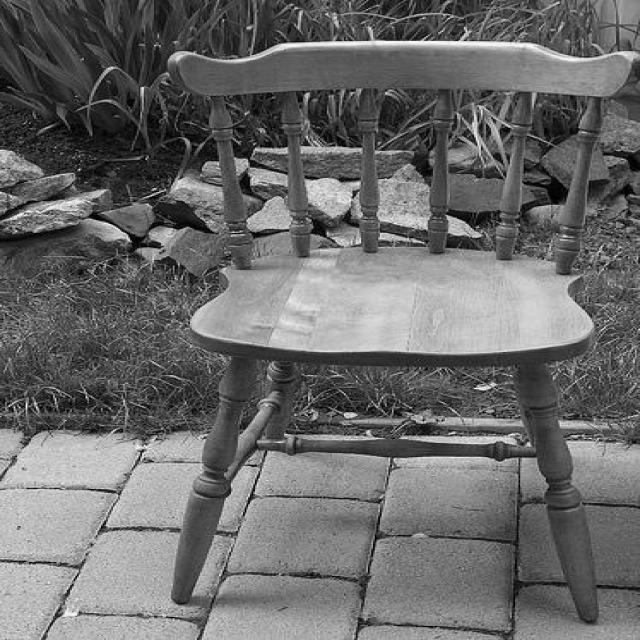chair: (154, 43, 639, 624)
